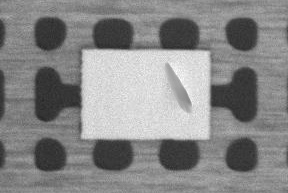DIE_INK: (239, 39, 288, 78)
